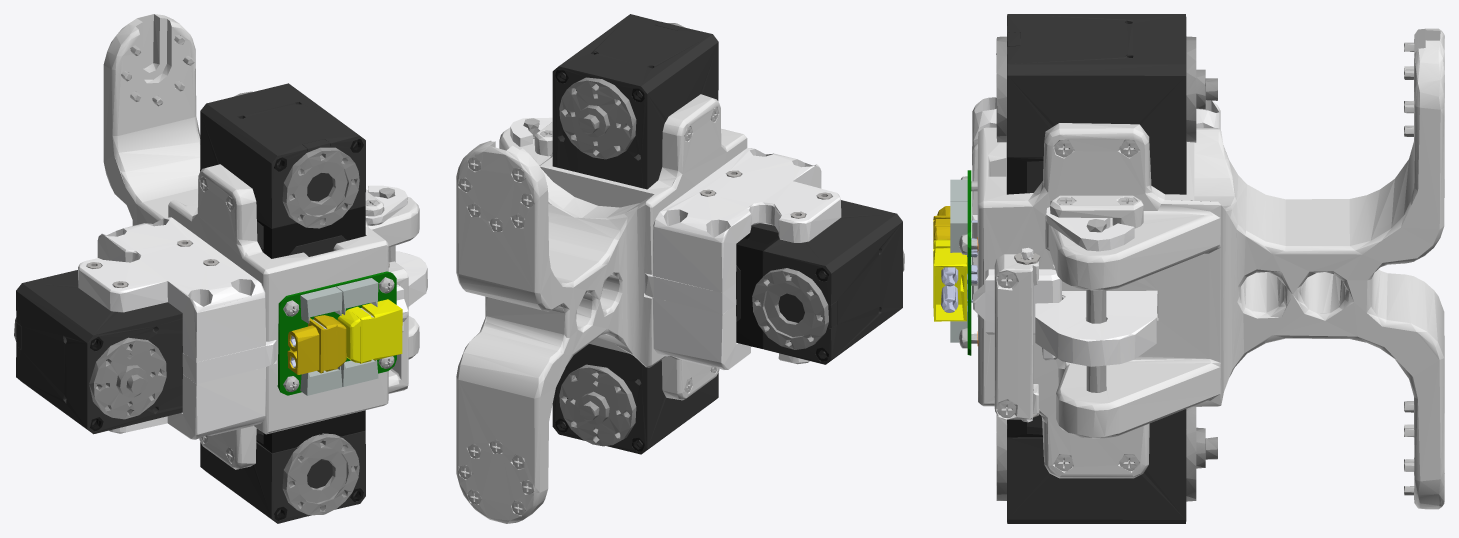
The model's file is link_body_06.obj.
The picture shows the model from 3 angles, left to right: view 1: azimuth 30°, elevation 25°; view 2: azimuth 150°, elevation 25°; view 3: azimuth 270°, elevation 25°; orthographic projection. The views are drawn at different scales.
Visible parts, largest first — view 1: link_body_06; view 2: link_body_06; view 3: link_body_06.
Boxes of the visible parts, x1,y1,x2,y2 form: link_body_06: (14, 14, 427, 523); link_body_06: (456, 14, 904, 523); link_body_06: (933, 14, 1444, 523).
Bounding box in the file's own units: 131 × 126 × 125.
